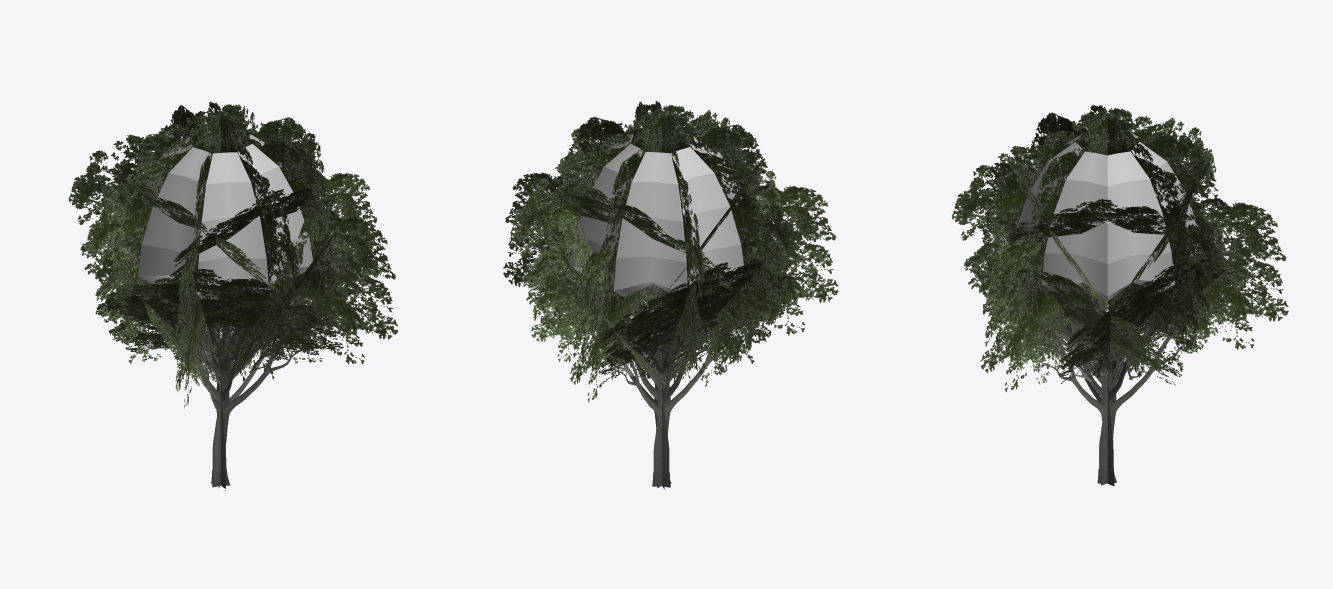
Rendered from Tree_04_WithBlob.fbx.
3 views of the same model, side by side, from view 1: azimuth 30°, elevation 25°; view 2: azimuth 150°, elevation 25°; view 3: azimuth 270°, elevation 25° (orthographic).
Parts seen in each view (by area): view 1: Tree_04; view 2: Tree_04; view 3: Tree_04.
Boxes of the visible parts, box(x1,y1,x2,y2) form: Tree_04: box(68, 101, 397, 488); Tree_04: box(503, 100, 838, 489); Tree_04: box(952, 105, 1288, 486).
Bounding box in the file's own units: 1420 × 1420 × 1420.
